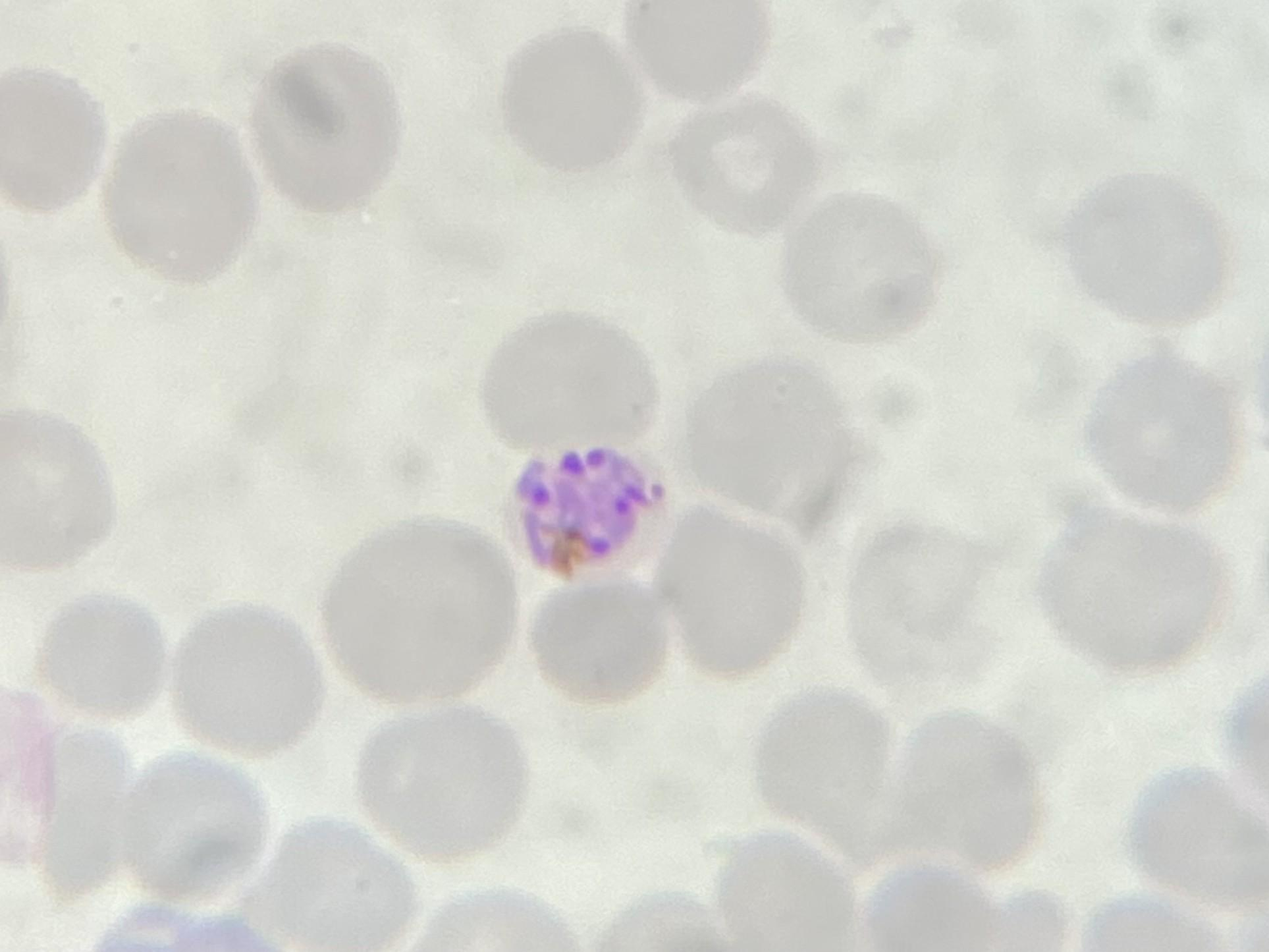Infected: (502, 437, 665, 585)
Uninfected: (324, 522, 520, 703), (1037, 507, 1220, 676), (684, 356, 860, 524), (843, 520, 1010, 687), (249, 45, 407, 217), (880, 708, 1040, 876), (101, 113, 259, 281), (655, 506, 805, 681), (356, 711, 525, 864), (1059, 174, 1229, 326), (1083, 354, 1239, 513), (480, 312, 658, 447), (118, 751, 270, 907), (781, 193, 937, 343), (171, 605, 322, 754), (754, 690, 892, 852), (246, 819, 414, 952), (496, 29, 644, 174), (668, 100, 821, 232), (3, 409, 117, 574), (1129, 770, 1266, 906), (530, 580, 668, 704), (713, 835, 860, 950), (37, 594, 164, 720), (1, 69, 106, 210), (629, 3, 769, 101), (863, 864, 1017, 951)
